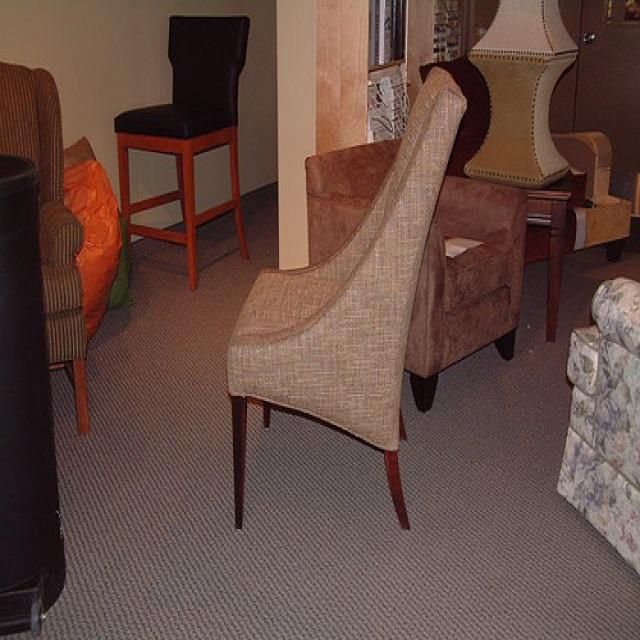chair: (225, 67, 467, 530), (113, 14, 251, 290), (0, 60, 90, 435)
